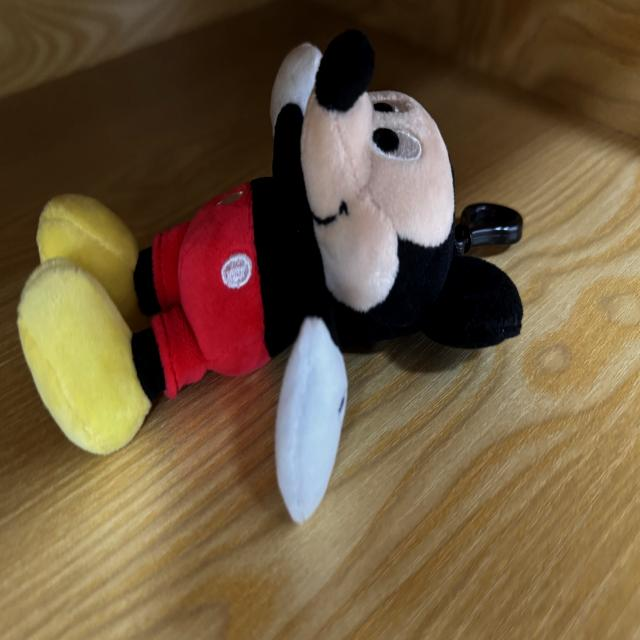mickey: (19, 31, 522, 522)
